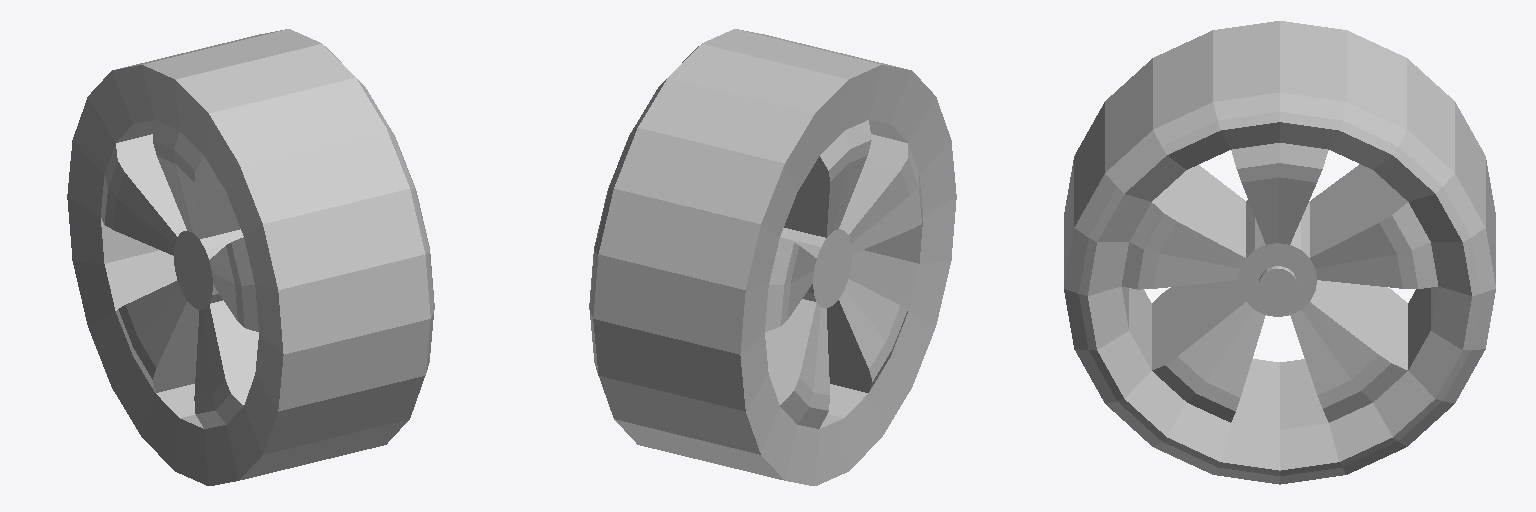
File: car_leftrearwheel.obj
The picture shows the model from 3 angles: view 1: azimuth 30°, elevation 25°; view 2: azimuth 150°, elevation 25°; view 3: azimuth 270°, elevation 25°; orthographic projection.
Parts seen in each view (by area): view 1: Rear_Left_Wheel; view 2: Rear_Left_Wheel; view 3: Rear_Left_Wheel.
Part boxes in pixels (left/top/right/bottom): Rear_Left_Wheel: left=67, top=29, right=434, bottom=485; Rear_Left_Wheel: left=589, top=29, right=956, bottom=485; Rear_Left_Wheel: left=1064, top=21, right=1495, bottom=484.
Size of the model in its own units: 0.5821 by 1.32 by 1.32.